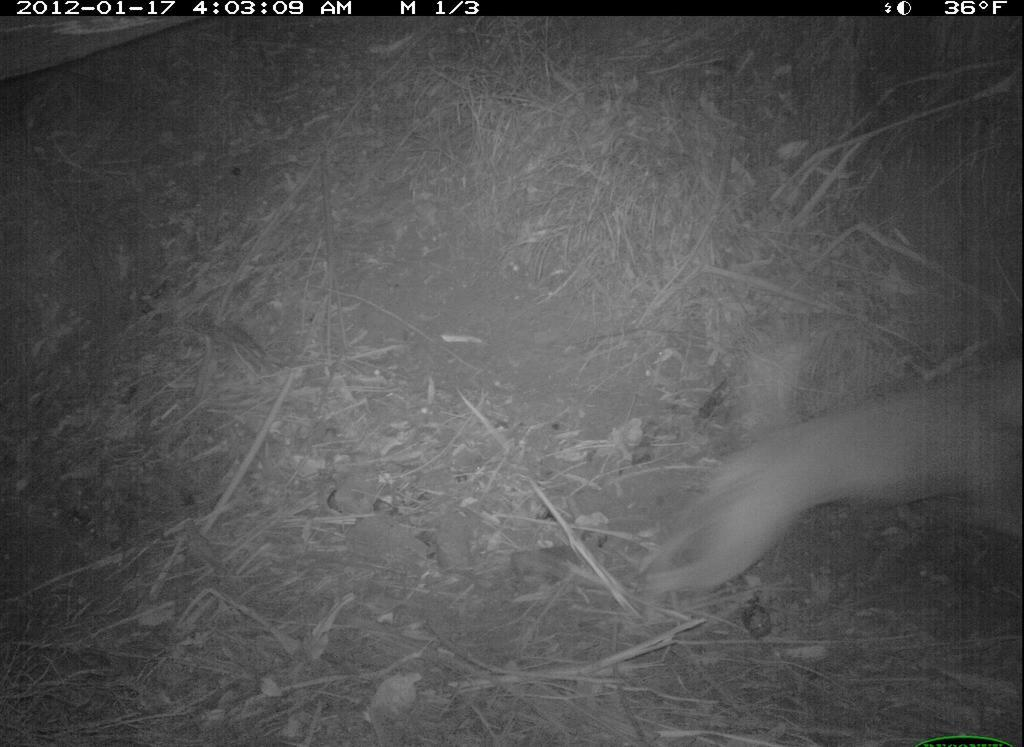dog: (651, 340, 1023, 628)
